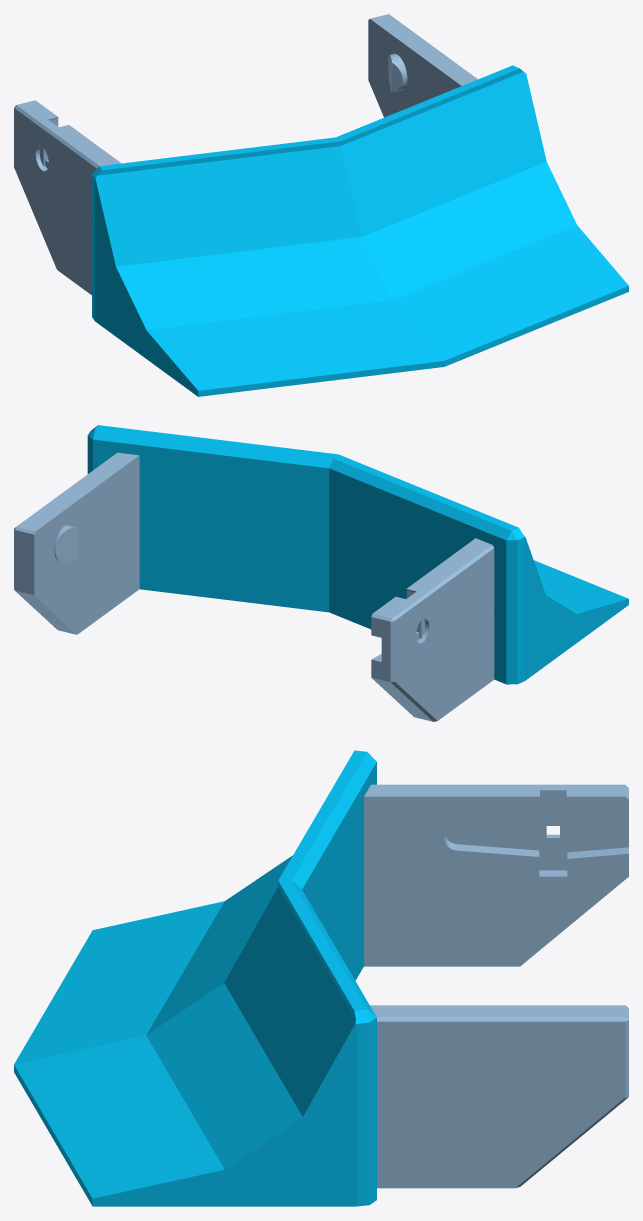
File: Bumper_motor_ramp.glb
3 renders of one model, top to bottom at view 1: azimuth 30°, elevation 25°; view 2: azimuth 150°, elevation 25°; view 3: azimuth 270°, elevation 25°, orthographic. The views are drawn at different scales.
Parts seen in each view (by area): view 1: Node2, Node1; view 2: Node2, Node1; view 3: Node2, Node1.
Boxes of the visible parts, box(x1,y1,x2,y2) form: Node2: box(92, 65, 628, 396); Node1: box(14, 14, 477, 294); Node2: box(87, 425, 628, 684); Node1: box(14, 452, 494, 721); Node2: box(14, 750, 376, 1206); Node1: box(364, 784, 628, 1188).
Bounding box in the file's own units: 96.2 × 32 × 93.1.
